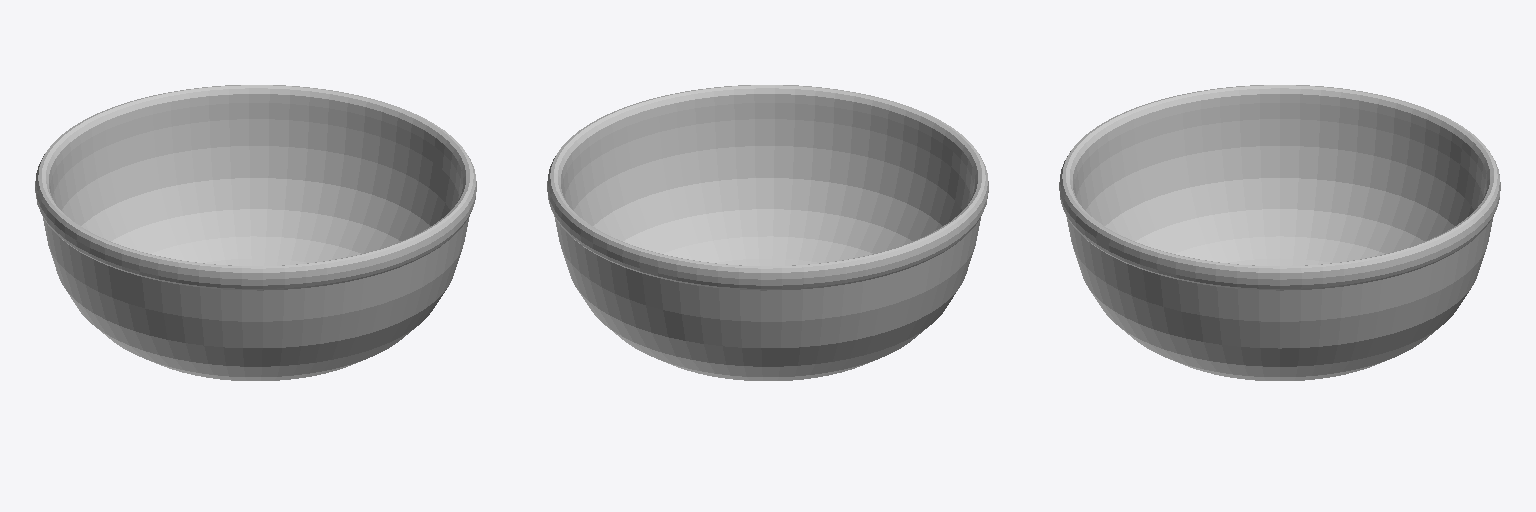
File: bowl.obj
The picture shows the model from 3 angles: view 1: azimuth 30°, elevation 25°; view 2: azimuth 150°, elevation 25°; view 3: azimuth 270°, elevation 25°; orthographic projection.
Visible parts, largest first — view 1: Cylinder; view 2: Cylinder; view 3: Cylinder.
Part boxes in pixels (x1,y1,x2,y2): Cylinder: (35, 85, 476, 380); Cylinder: (547, 85, 988, 380); Cylinder: (1059, 85, 1500, 380).
Bounding box in the file's own units: 9.12 × 3.65 × 9.12.